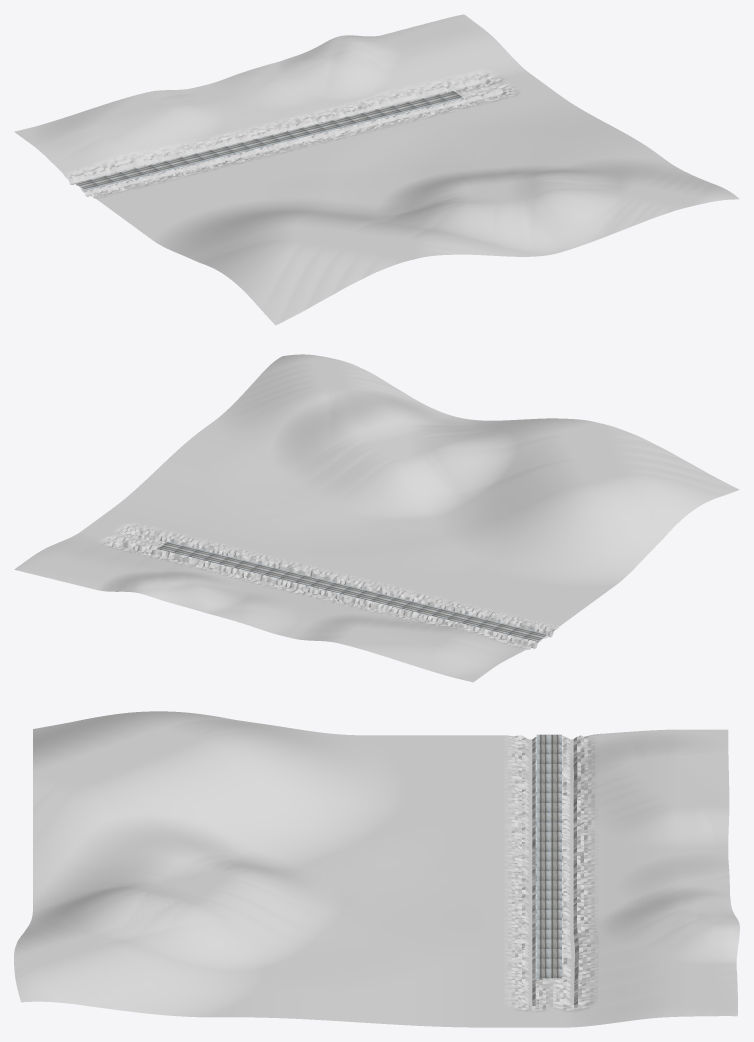
The picture shows the model from 3 angles, top to bottom: view 1: azimuth 30°, elevation 25°; view 2: azimuth 150°, elevation 25°; view 3: azimuth 270°, elevation 25°; orthographic projection. The views are drawn at different scales.
Visible parts, largest first — view 1: Plane, road_8x_10y_03z; view 2: Plane, road_8x_10y_03z; view 3: Plane, road_8x_10y_03z.
Part boxes in pixels (x1=…): Plane: x1=14, y1=14, x2=739, y2=325; road_8x_10y_03z: x1=75, y1=91, x2=462, y2=190; Plane: x1=14, y1=354, x2=739, y2=682; road_8x_10y_03z: x1=158, y1=541, x2=547, y2=641; Plane: x1=14, y1=711, x2=739, y2=1027; road_8x_10y_03z: x1=536, y1=734, x2=561, y2=978.
Size of the model in its own units: 30467 by 2566 by 31483.
